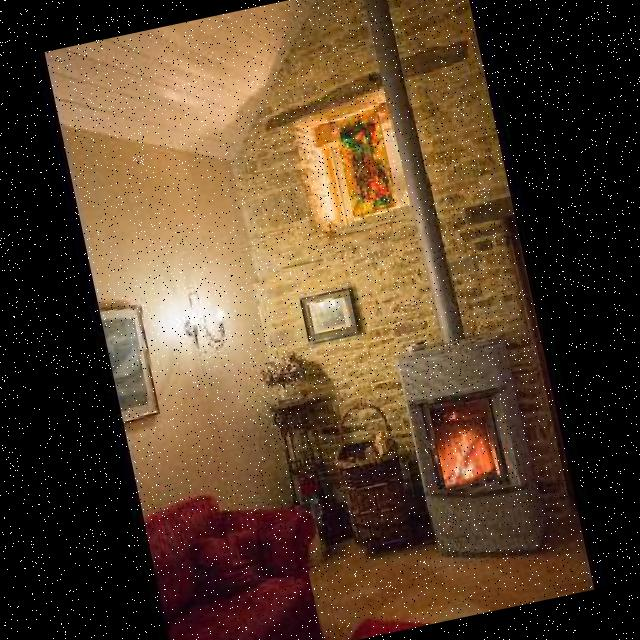fire: (433, 416, 499, 495)
